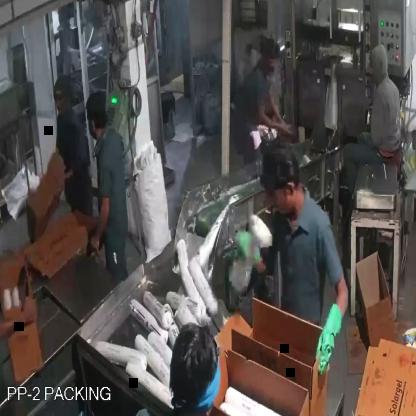glove: (306, 296, 344, 374)
no_glove: (0, 286, 44, 349), (83, 192, 114, 254), (258, 100, 292, 138)
